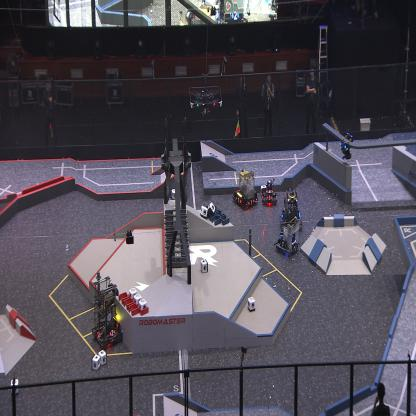car: (92, 276, 123, 349), (274, 215, 300, 258), (232, 169, 258, 207), (280, 187, 303, 229), (261, 179, 279, 206)
